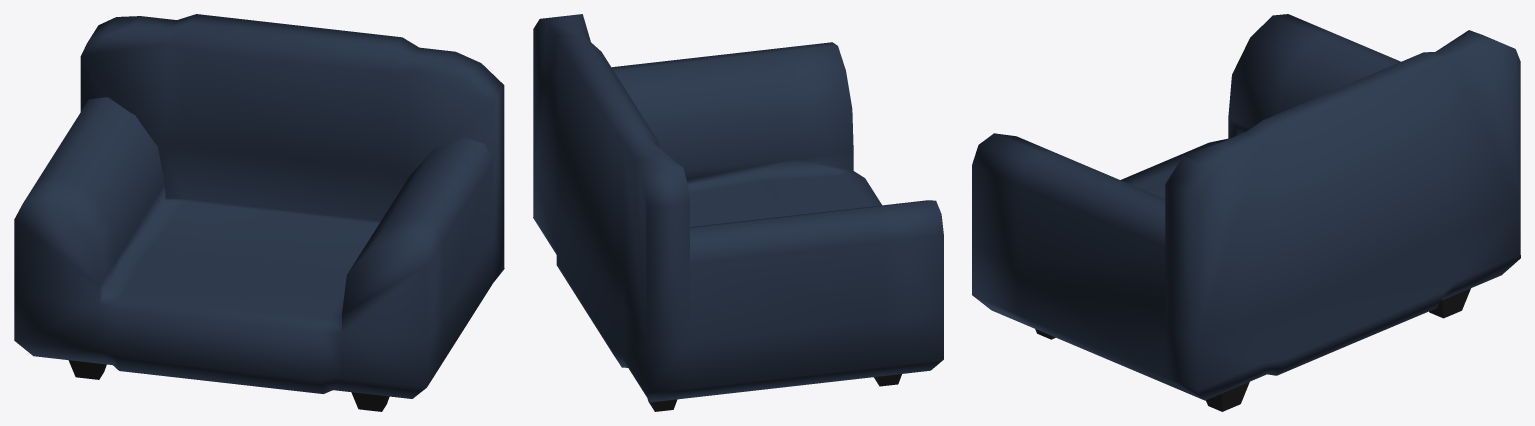
Rendered from plush_chair.fbx.
The picture shows the model from 3 angles, left to right: view 1: azimuth 30°, elevation 25°; view 2: azimuth 150°, elevation 25°; view 3: azimuth 270°, elevation 25°; orthographic projection. The views are drawn at different scales.
Parts seen in each view (by area): view 1: Couch.001; view 2: Couch.001; view 3: Couch.001.
Boxes of the visible parts, x1,y1,x2,y2 form: Couch.001: [14, 14, 504, 411]; Couch.001: [533, 14, 943, 411]; Couch.001: [972, 14, 1520, 411].
Bounding box in the file's own units: 1.77 × 0.9803 × 1.77.
